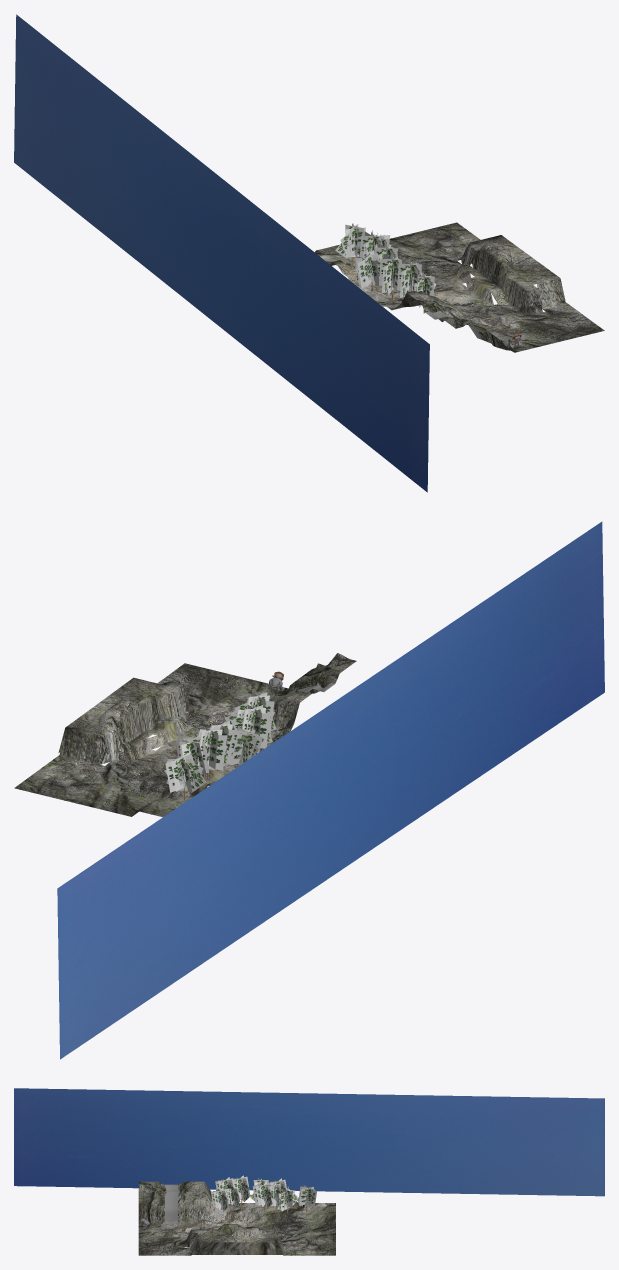
File: Landschaft.dae
3 views of the same model, one above another, from view 1: azimuth 30°, elevation 25°; view 2: azimuth 150°, elevation 25°; view 3: azimuth 270°, elevation 25° (orthographic). The views are drawn at different scales.
Parts seen in each view (by area): view 1: himmel_pPlane1, pPlane1; view 2: himmel_pPlane1, pPlane1; view 3: himmel_pPlane1, pPlane1, pPlane2.
Part boxes in pixels (x1,y1,x2,y2): himmel_pPlane1: (14,14,429,492); pPlane1: (314,222,604,352); himmel_pPlane1: (57,521,604,1059); pPlane1: (14,653,356,817); himmel_pPlane1: (14,1088,604,1196); pPlane1: (138,1181,335,1255); pPlane2: (191,1242,283,1254).
Size of the model in its own units: 78.38 by 41.09 by 222.
